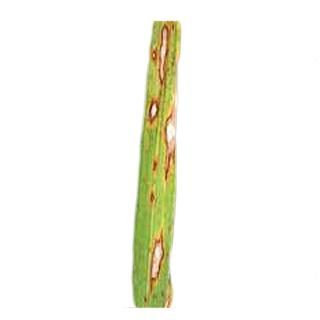Blast: (143, 29, 186, 143), (143, 221, 172, 301), (147, 19, 179, 85), (147, 148, 184, 175), (148, 188, 160, 210)
